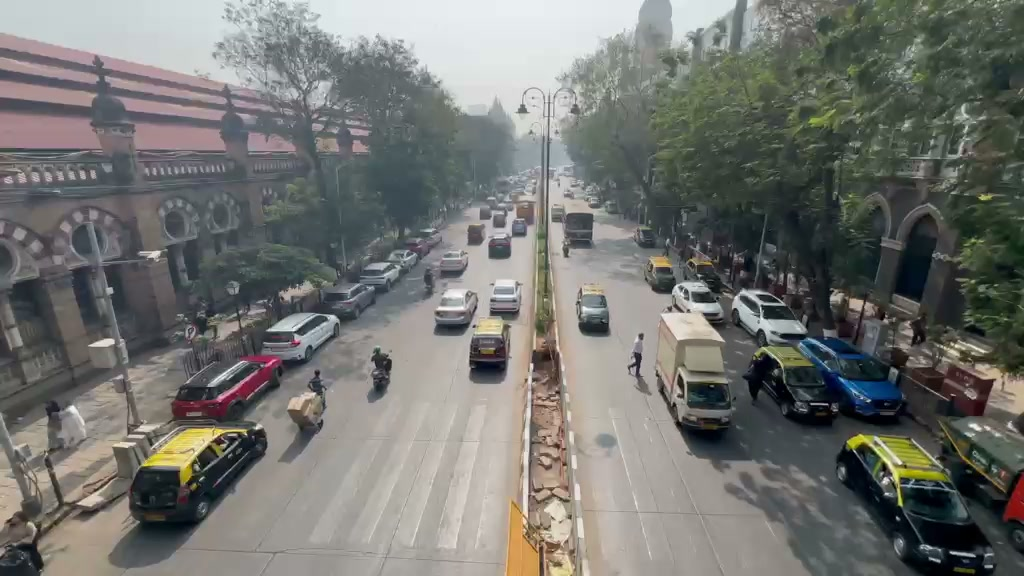bus: (564, 205, 595, 248)
car: (128, 423, 269, 524), (793, 335, 908, 423), (742, 343, 841, 424), (170, 354, 283, 421), (259, 311, 340, 367), (732, 289, 809, 346), (318, 280, 377, 321), (671, 280, 725, 323), (468, 317, 510, 372), (433, 288, 479, 330), (576, 287, 611, 335), (644, 254, 680, 294), (487, 279, 523, 318), (359, 261, 401, 293), (435, 248, 470, 277), (386, 249, 419, 269), (512, 219, 527, 237)
motorcycle: (286, 391, 326, 437)
pedestrian: (629, 332, 645, 377), (306, 369, 327, 403)
truck: (834, 431, 997, 574), (937, 415, 1023, 544), (654, 308, 735, 434), (742, 343, 841, 424), (731, 289, 808, 345), (563, 207, 595, 247)
